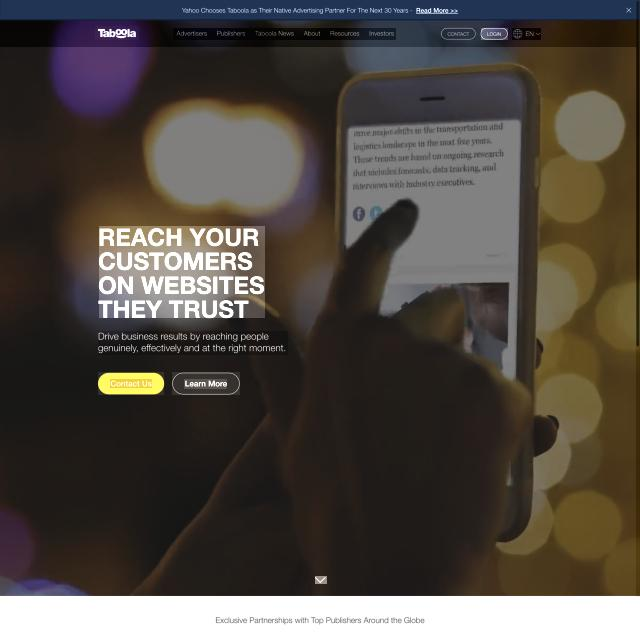CheckBox: (172, 372, 240, 395), (98, 372, 164, 395), (441, 28, 476, 40), (481, 28, 508, 40)
Input field: (98, 331, 288, 355)
ProgressBar: (1, 0, 640, 19)
alert: (512, 28, 541, 40)
bag: (0, 19, 637, 47)
card: (1, 47, 636, 597)
carousel: (315, 576, 327, 584)
data feed: (184, 379, 227, 389), (110, 379, 152, 388)
date picker: (95, 26, 139, 40)
decoration: (173, 28, 396, 40)
image: (99, 226, 265, 318)
